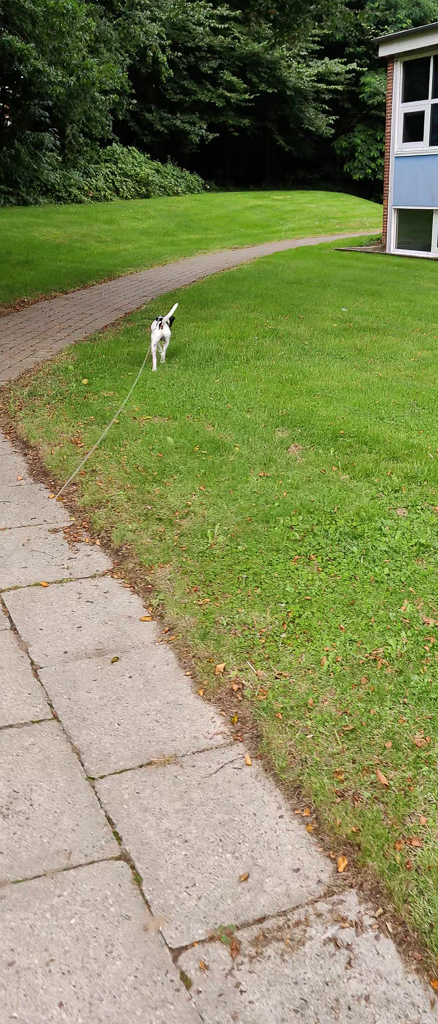Dog: (140, 299, 189, 377)
